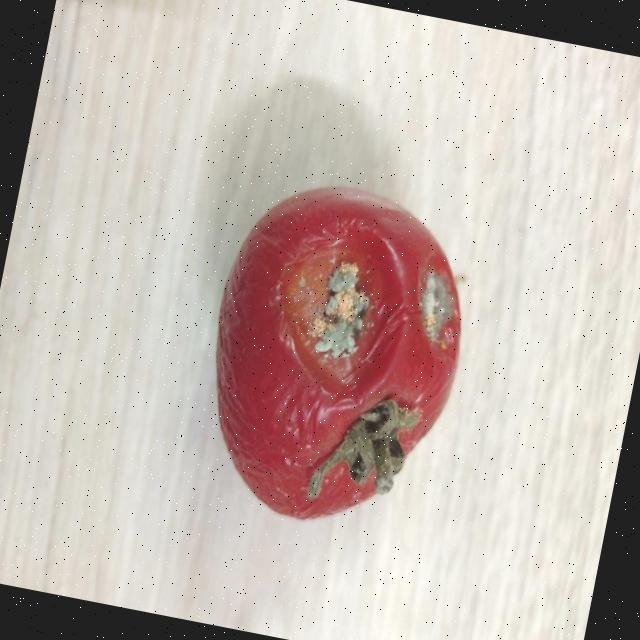Rotten: (180, 168, 490, 549)
